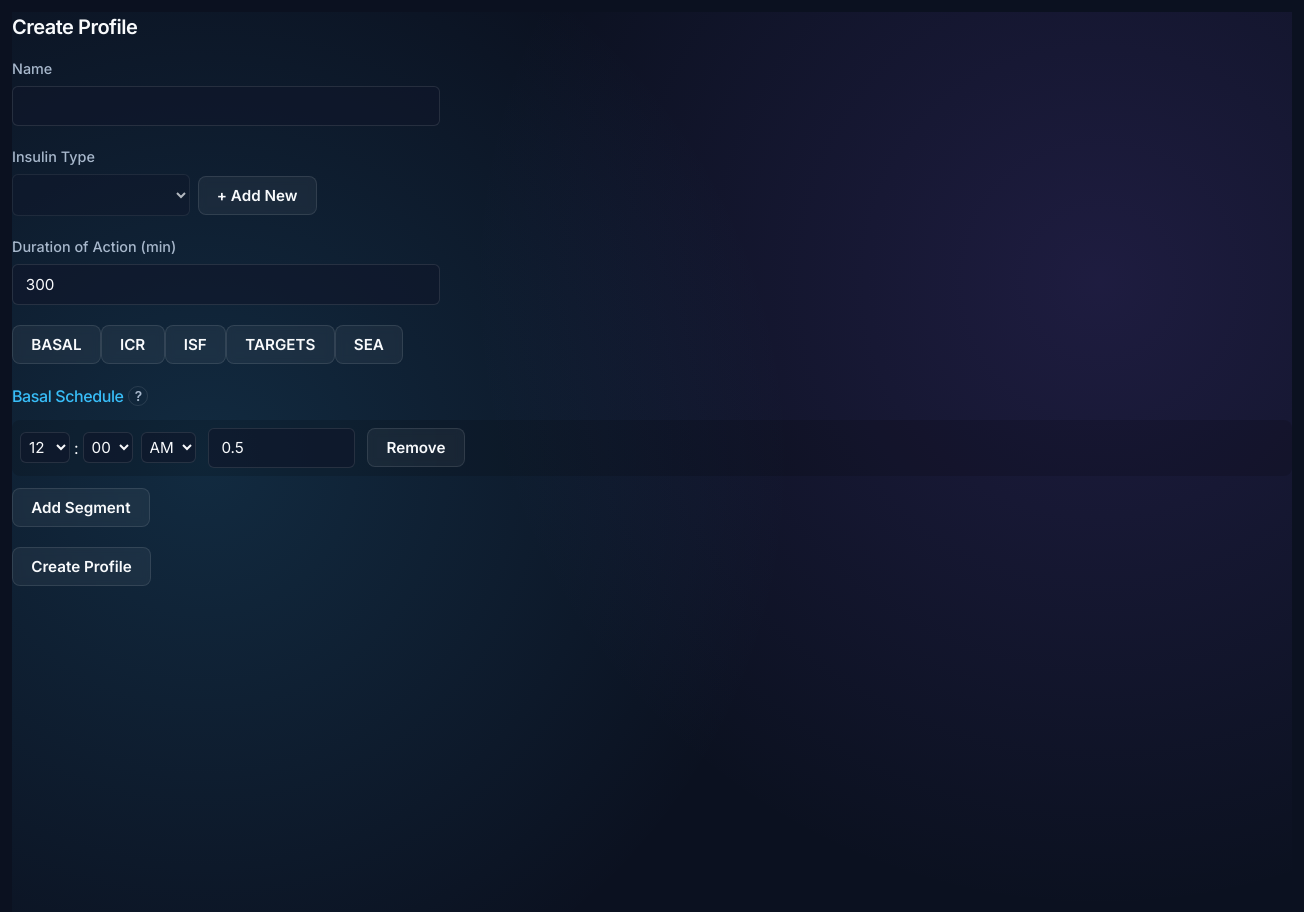
Test: ProfileEditor › Cancel in add new insulin mode switches back to select
The width and height of the screenshot is (1304, 912).
Click the button "+ Add New": (257, 195) [198,176,317,215]
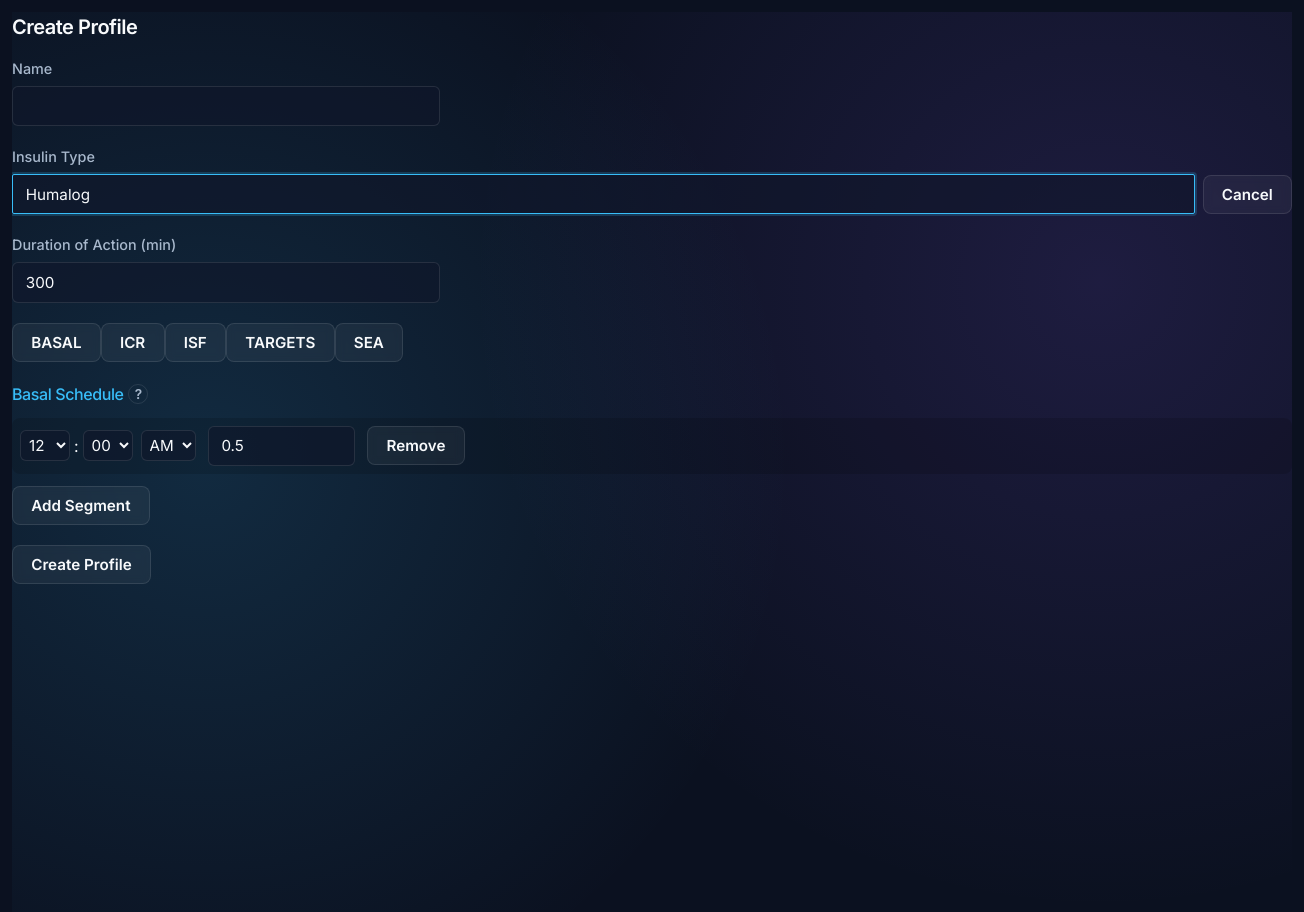
Click the button "Cancel": (1247, 194) [1202,175,1292,214]
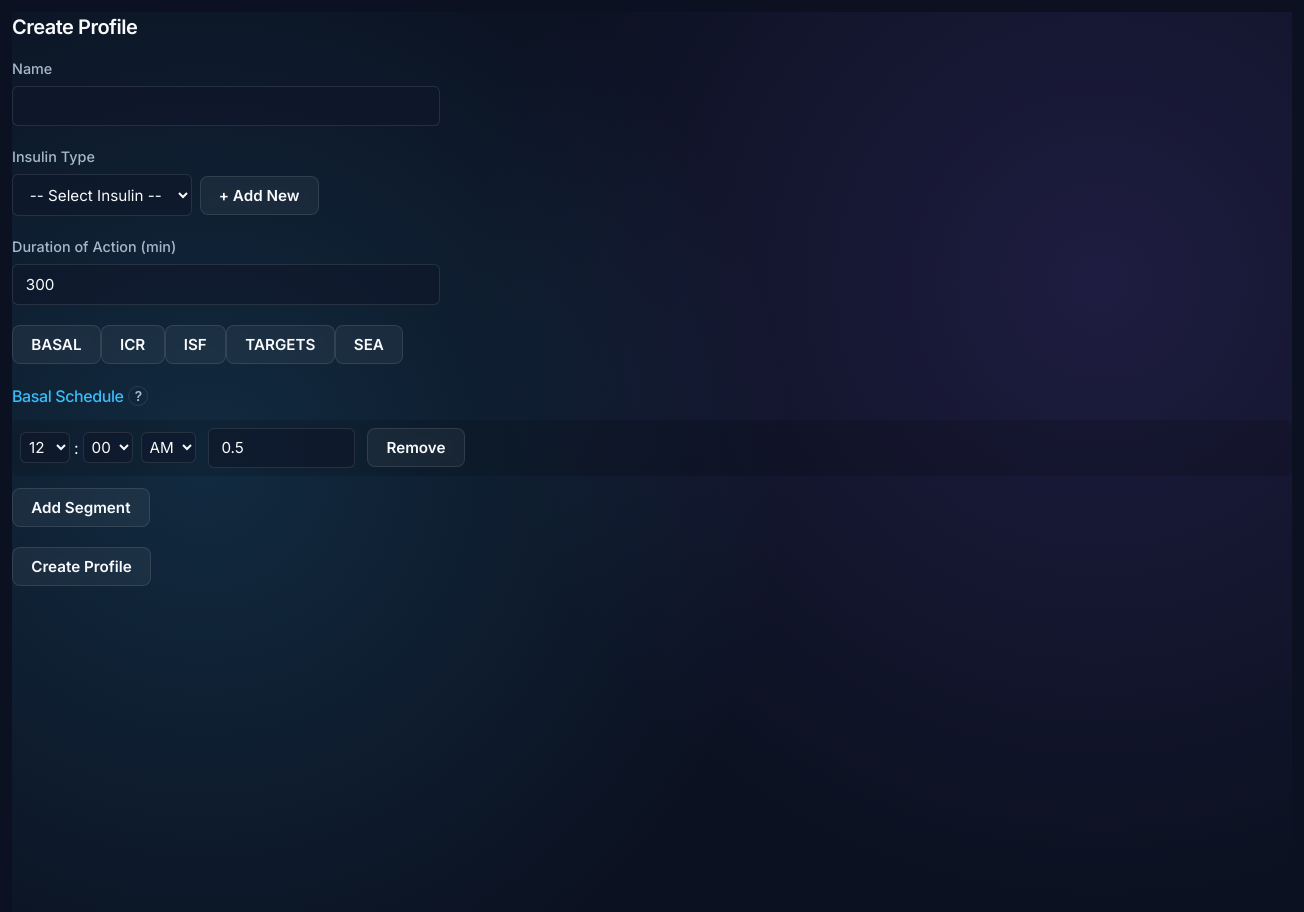
Now the button "+ Add New" is shown, box [200,176,319,215]
